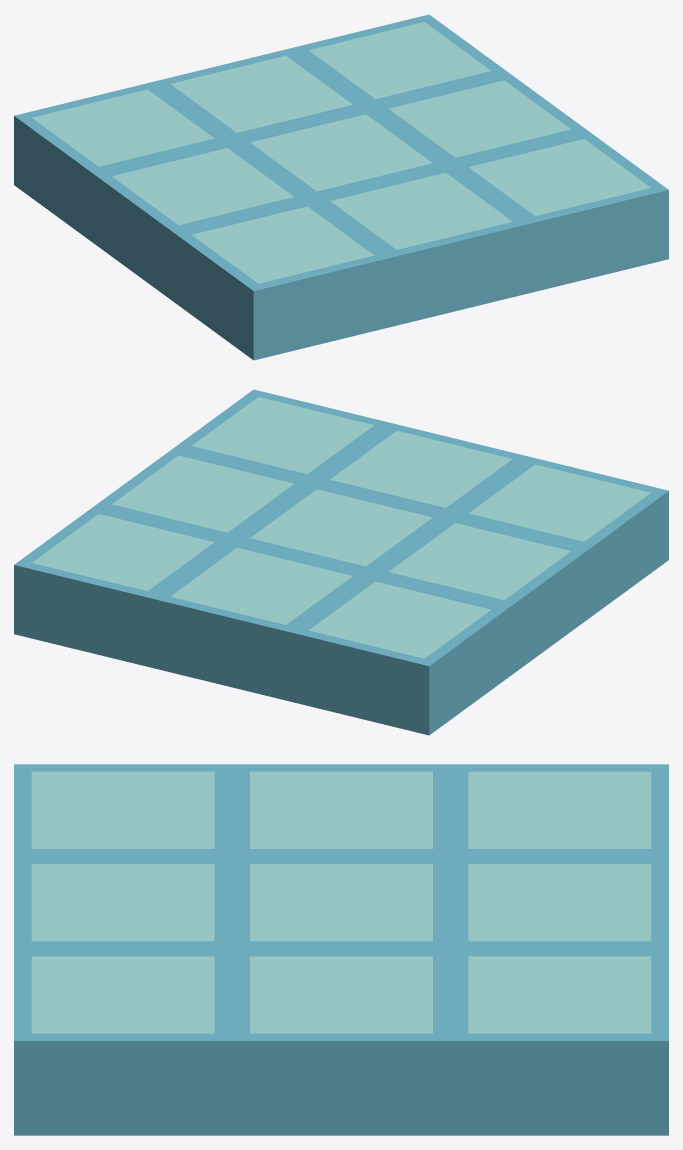
File: Floor_washroom.fbx
The picture shows the model from 3 angles, top to bottom: view 1: azimuth 30°, elevation 25°; view 2: azimuth 150°, elevation 25°; view 3: azimuth 270°, elevation 25°; orthographic projection. The views are drawn at different scales.
Visible parts, largest first — view 1: Floor_washroom; view 2: Floor_washroom; view 3: Floor_washroom.
Part boxes in pixels (<box>): Floor_washroom: <box>14,14,668,360</box>; Floor_washroom: <box>14,389,668,735</box>; Floor_washroom: <box>14,764,668,1135</box>.
Size of the model in its own units: 200 by 31.89 by 200.
